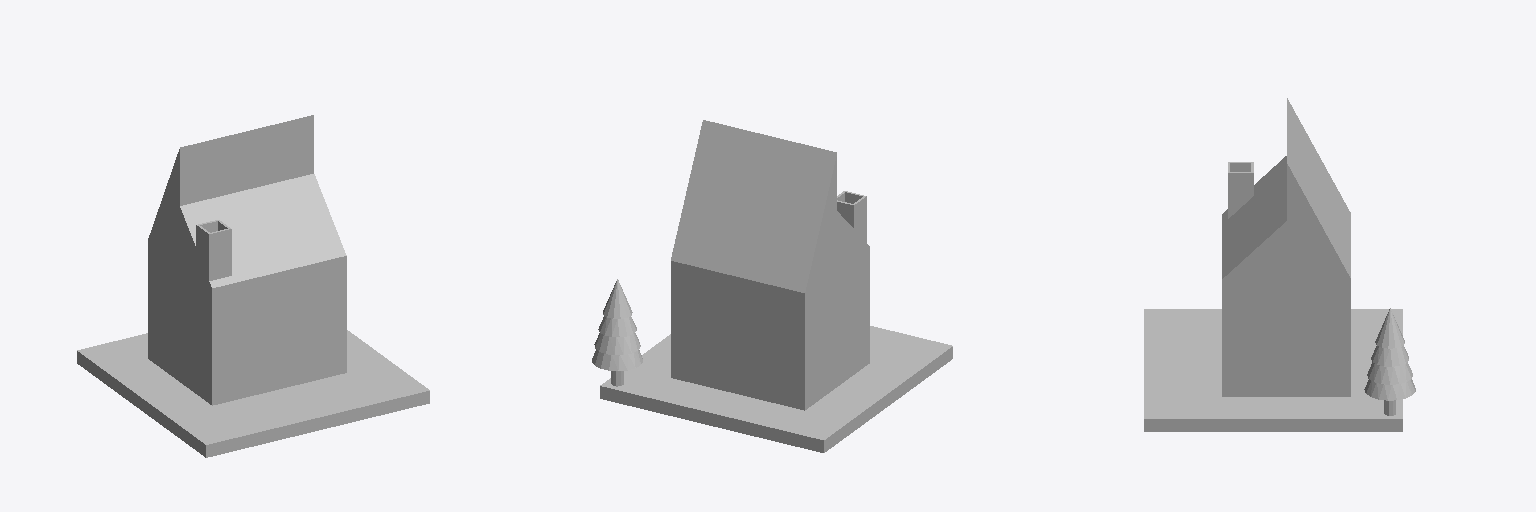
The model's file is House_Assembly_Depth_Tracking.obj.
3 renders of one model, left to right at view 1: azimuth 30°, elevation 25°; view 2: azimuth 150°, elevation 25°; view 3: azimuth 270°, elevation 25°, orthographic.
Parts seen in each view (by area): view 1: House_Assembly_Depth_Tracking; view 2: House_Assembly_Depth_Tracking; view 3: House_Assembly_Depth_Tracking.
Boxes of the visible parts, x1,y1,x2,y2 form: House_Assembly_Depth_Tracking: [77, 115, 429, 457]; House_Assembly_Depth_Tracking: [592, 120, 952, 452]; House_Assembly_Depth_Tracking: [1144, 98, 1415, 431].
Bounding box in the file's own units: 0.2099 × 0.211 × 0.2097.